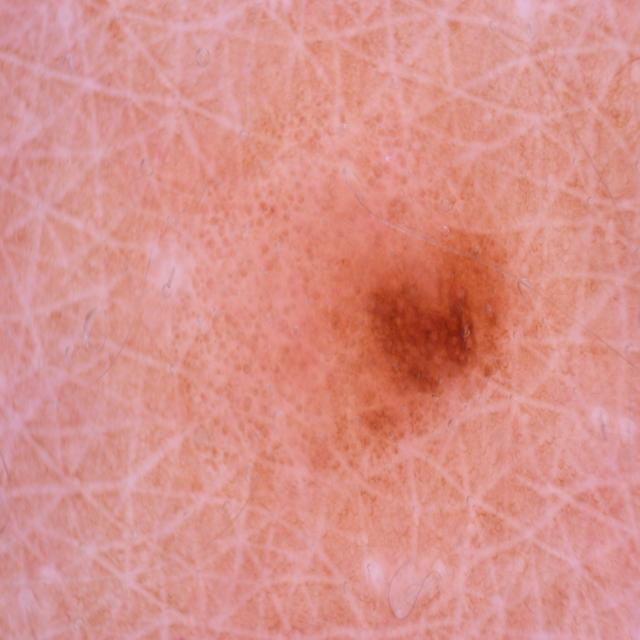Benign: (212, 140, 511, 453)
